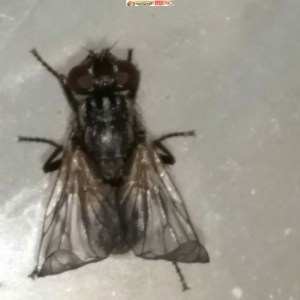fly: (17, 42, 221, 281)
